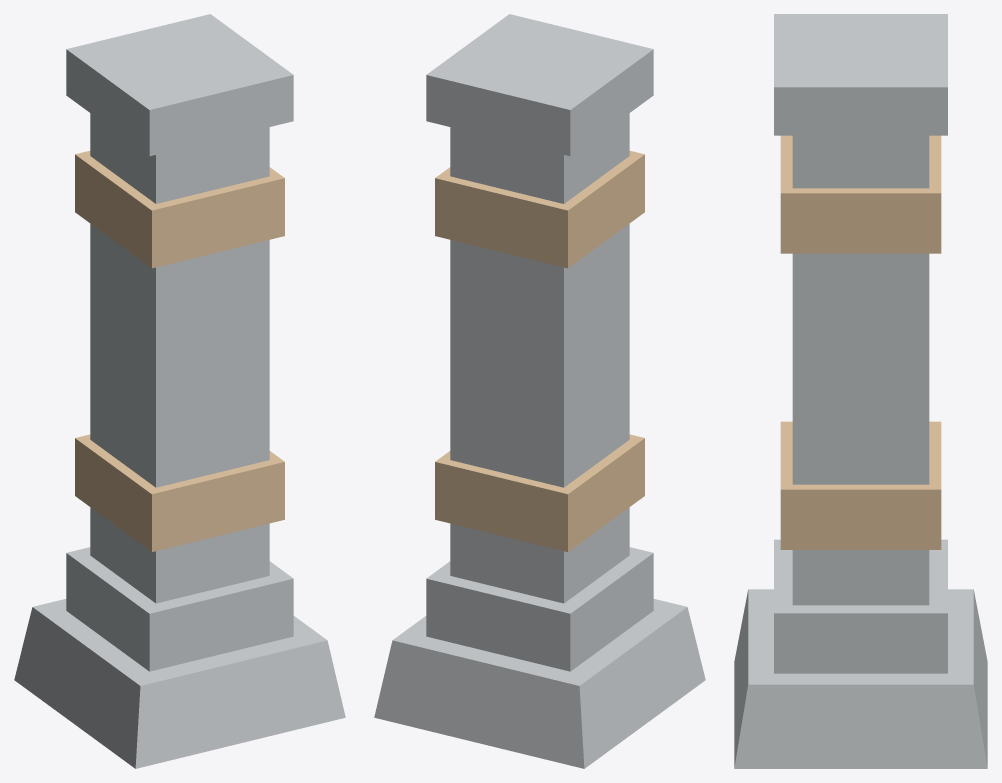
The model's file is columnLarge.glb.
3 renders of one model, left to right at view 1: azimuth 30°, elevation 25°; view 2: azimuth 150°, elevation 25°; view 3: azimuth 270°, elevation 25°, orthographic. The views are drawn at different scales.
Visible parts, largest first — view 1: columnLarge(Clone); view 2: columnLarge(Clone); view 3: columnLarge(Clone).
Part boxes in pixels (x1,y1,x2,y2): columnLarge(Clone): (14,14,345,768); columnLarge(Clone): (374,14,705,768); columnLarge(Clone): (734,14,987,768).
Bounding box in the file's own units: 0.38 × 1.1 × 0.38.
